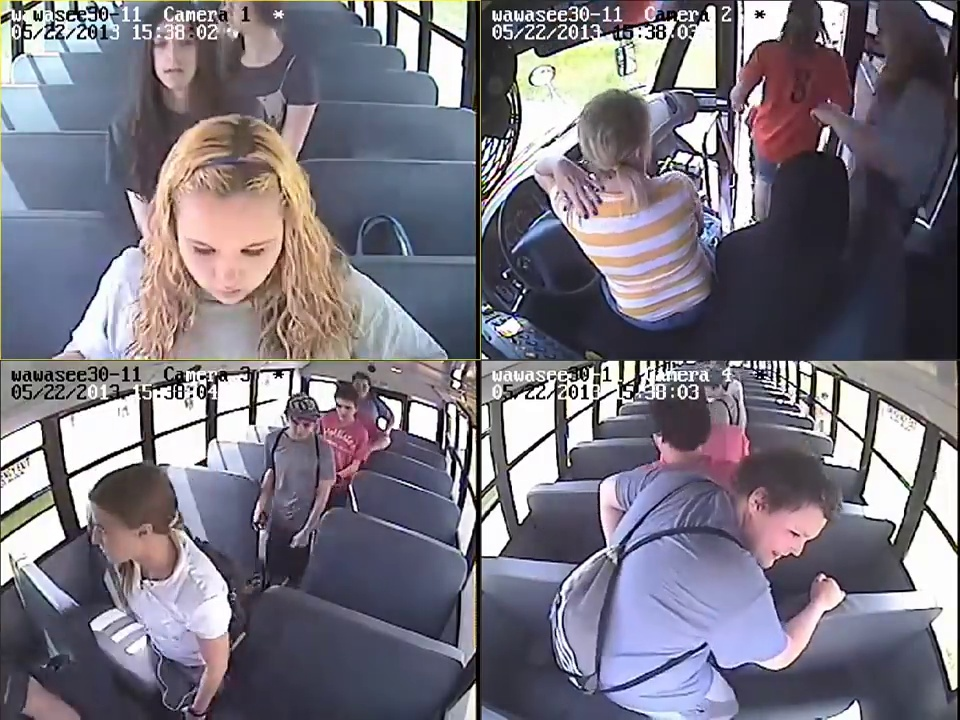face: (181, 190, 278, 305), (764, 487, 834, 575), (86, 498, 145, 572), (157, 43, 195, 98), (289, 410, 316, 443), (333, 398, 357, 424), (353, 374, 374, 396)
